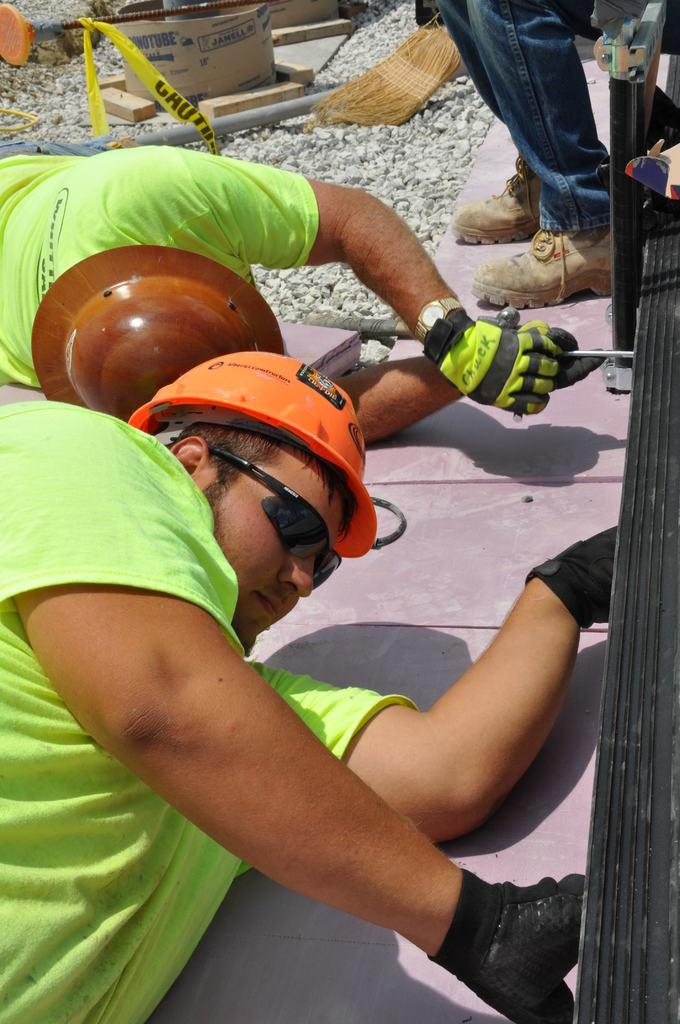Hat: (123, 356, 380, 562), (31, 246, 282, 426)
